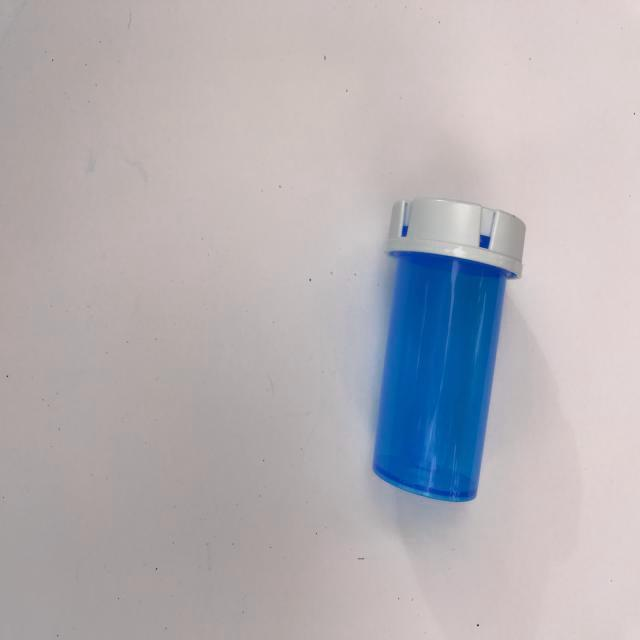plastic: (329, 175, 538, 540)
